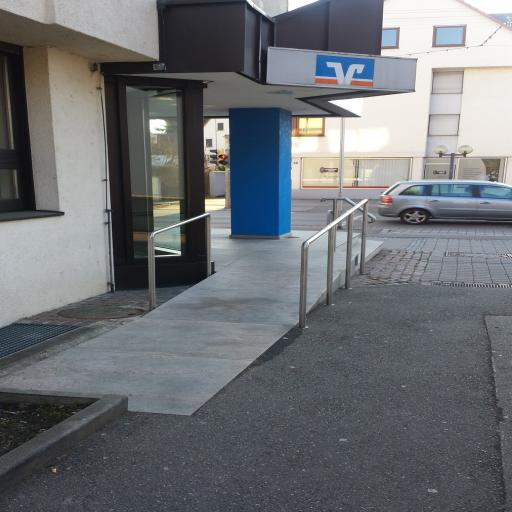ramp: (142, 265, 349, 327)
